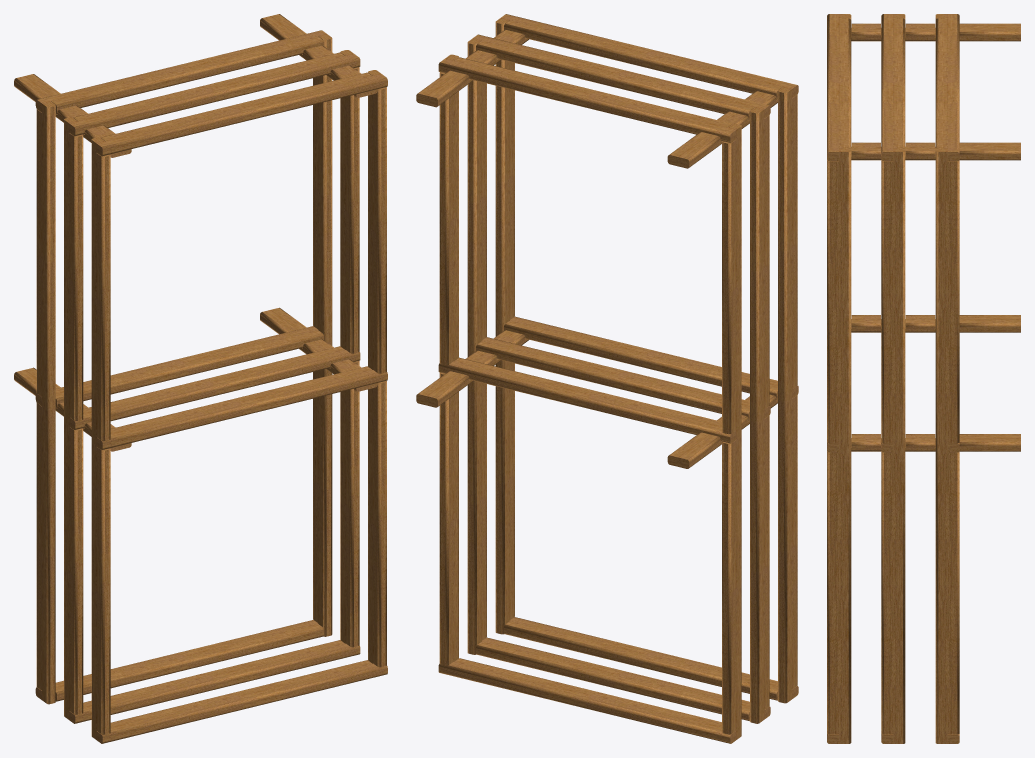
File: VCKA0060.glb
3 renders of one model, left to right at view 1: azimuth 30°, elevation 25°; view 2: azimuth 150°, elevation 25°; view 3: azimuth 270°, elevation 25°, orthographic. The views are drawn at different scales.
Parts seen in each view (by area): view 1: G-Difference.028; view 2: G-Difference.028; view 3: G-Difference.028.
Part boxes in pixels (<box>): G-Difference.028: <box>14,14,387,743</box>; G-Difference.028: <box>416,14,798,743</box>; G-Difference.028: <box>827,14,1020,743</box>.
Bounding box in the file's own units: 0.406 × 0.812 × 0.241.
Materials: 2 (2 with a texture image).
